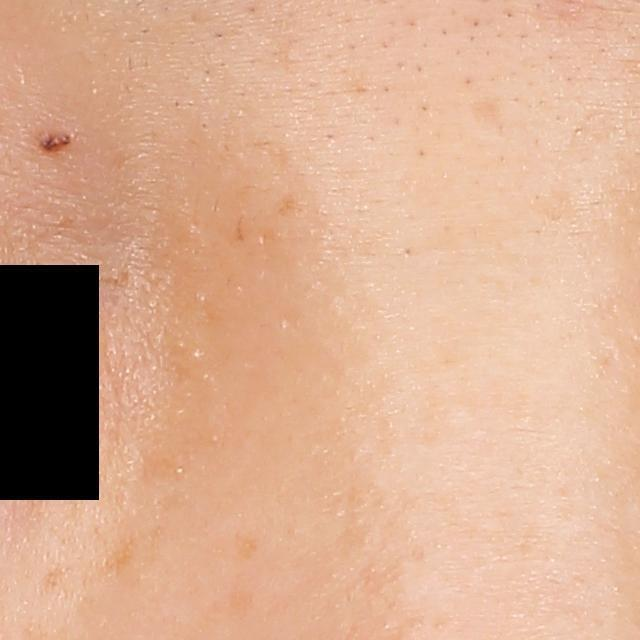melasma: (102, 533, 146, 579), (33, 568, 67, 600), (233, 529, 262, 561)
